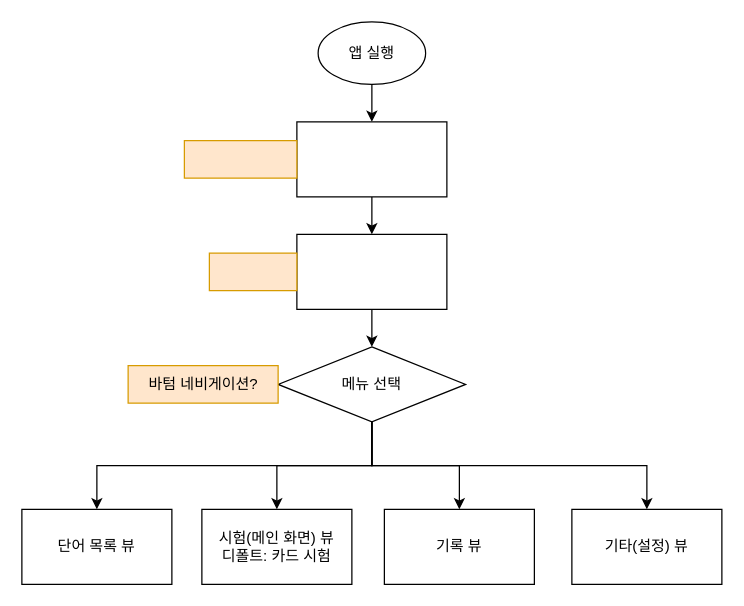
This 744x606 diagram has some shape labels left out. Each missing label, with the centre of its shape:
로고 화면 출력 + 데이터베이스 실행: (371,159)
메인 화면: (252,271)
시험 뷰 실행: (371,271)
인트로 화면: (240,158)
